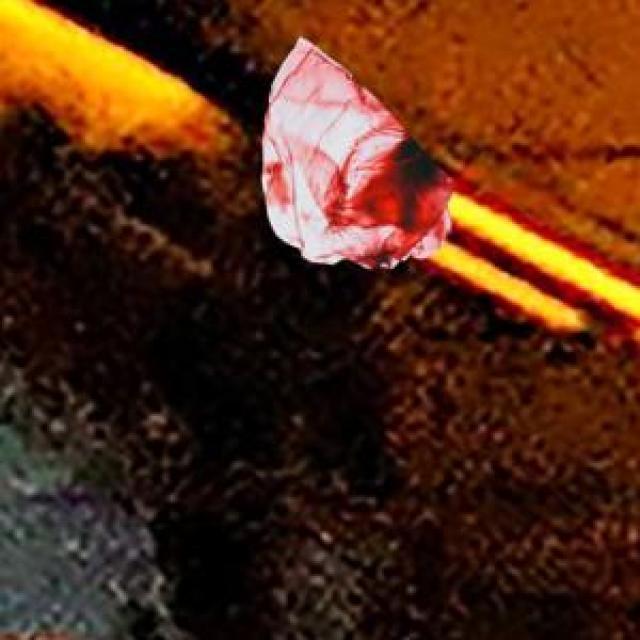waste: (265, 38, 451, 268)
